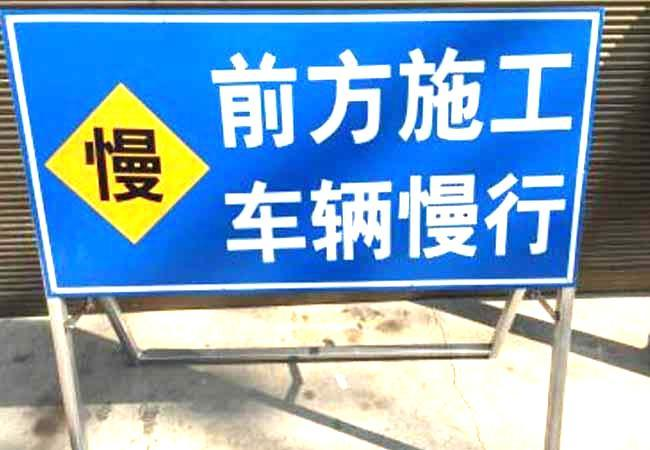sign: (6, 13, 592, 285)
